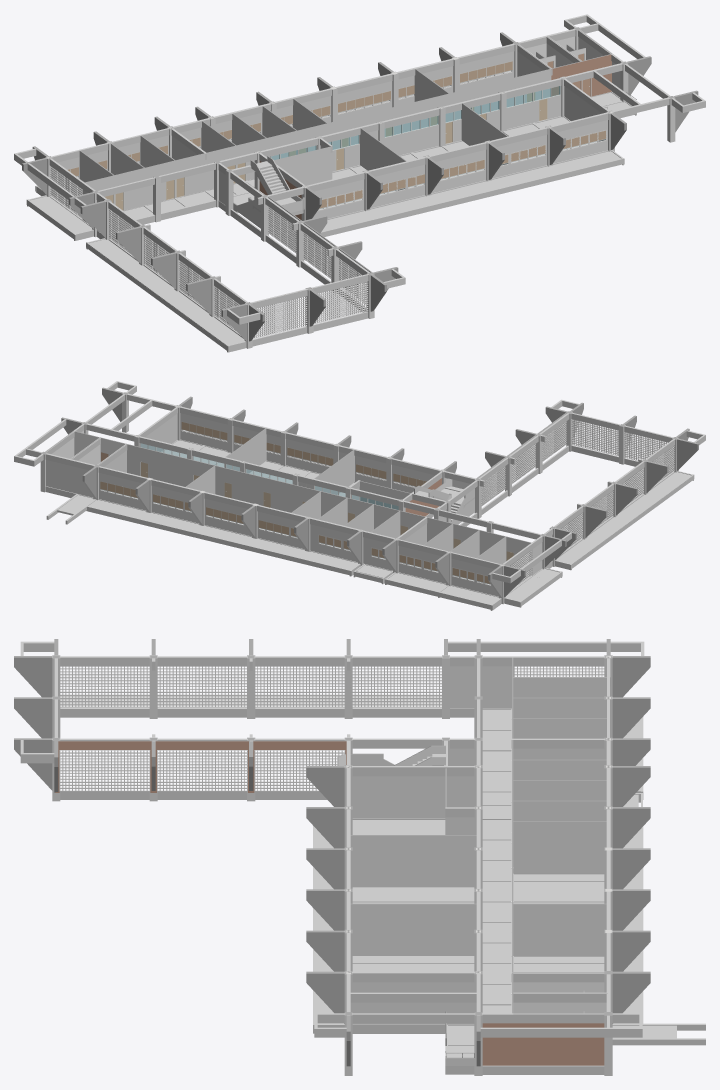
3 renders of one model, top to bottom at view 1: azimuth 30°, elevation 25°; view 2: azimuth 150°, elevation 25°; view 3: azimuth 270°, elevation 25°, orthographic. The views are drawn at different scales.
Parts seen in each view (by area): view 1: EN1200399, EN1200314, EN1200313, EN1200312, EN1200309, EN1200310, EN1200311, EN1200301, EN1200302, EN1200308, EN1200305, EN1200306 (+3 smaller); view 2: EN1200399, EN1200309, EN1200310, EN1200311, EN1200314, EN1200313, EN1200301, EN1200312, EN1200302, EN1200304, EN1200308, EN1200306 (+3 smaller); view 3: EN1200399, EN1200311, EN1200312, EN1200313, EN1200309, EN1200314, EN1200308, EN1200301, EN1200306, EN1200310, EN1200303, EN1200302 (+3 smaller).
Boxes of the visible parts, <box> form: EN1200399: <box>61,48,705,352</box>; EN1200314: <box>461,76,626,188</box>; EN1200313: <box>359,102,521,213</box>; EN1200312: <box>254,127,419,236</box>; EN1200309: <box>290,62,449,147</box>; EN1200310: <box>403,44,551,110</box>; EN1200311: <box>500,14,633,97</box>; EN1200301: <box>14,146,114,230</box>; EN1200302: <box>77,132,144,211</box>; EN1200308: <box>256,91,327,137</box>; EN1200305: <box>155,117,236,190</box>; EN1200306: <box>195,106,265,180</box>; EN1200399: <box>55,381,705,583</box>; EN1200309: <box>174,465,320,558</box>; EN1200310: <box>65,444,215,532</box>; EN1200311: <box>14,426,127,519</box>; EN1200314: <box>134,396,276,473</box>; EN1200313: <box>225,422,362,494</box>; EN1200301: <box>465,536,551,610</box>; EN1200312: <box>313,448,456,516</box>; EN1200302: <box>435,530,506,603</box>; EN1200304: <box>382,517,453,590</box>; EN1200308: <box>280,491,347,564</box>; EN1200306: <box>332,504,400,577</box>; EN1200399: <box>14,639,513,1075</box>; EN1200311: <box>511,971,705,1075</box>; EN1200312: <box>306,765,482,887</box>; EN1200313: <box>306,835,482,956</box>; EN1200309: <box>511,821,650,956</box>; EN1200314: <box>306,903,482,1033</box>; EN1200308: <box>511,801,650,874</box>; EN1200301: <box>511,639,650,729</box>; EN1200306: <box>511,759,650,832</box>; EN1200310: <box>511,904,705,1030</box>; EN1200303: <box>511,696,650,770</box>; EN1200302: <box>511,677,643,748</box>.
Size of what is drawn, in the model's own units: 57.2 by 4.63 by 42.6.
